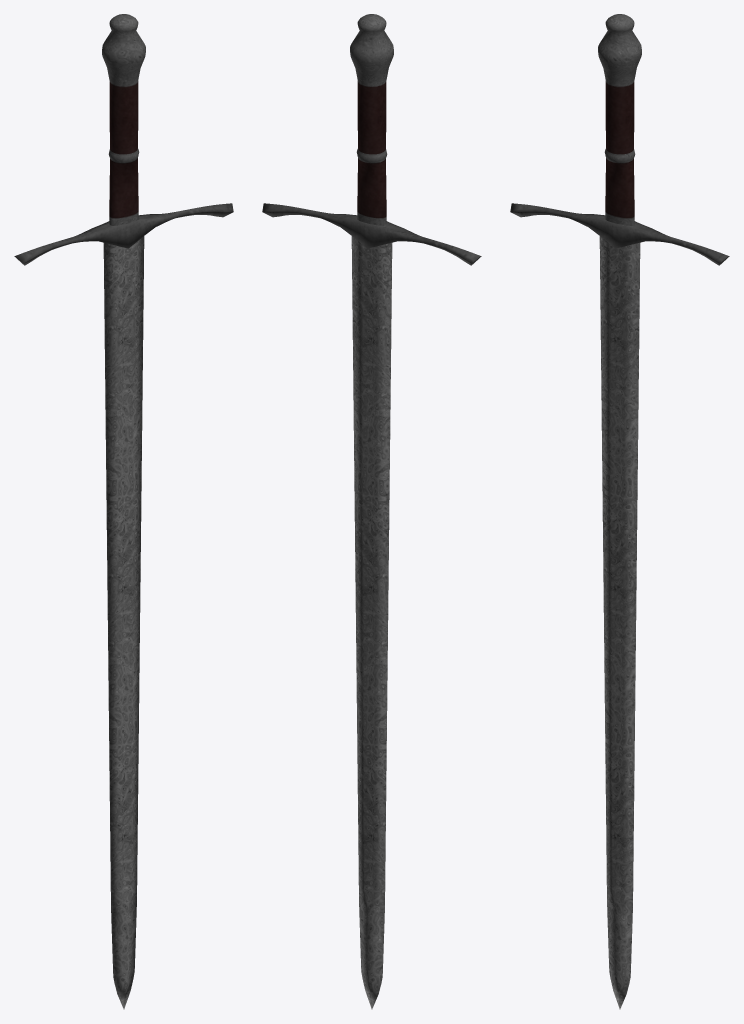
Rendered from damascus_sword.glb.
The picture shows the model from 3 angles, left to right: view 1: azimuth 30°, elevation 25°; view 2: azimuth 150°, elevation 25°; view 3: azimuth 330°, elevation 25°; orthographic projection.
Visible parts, largest first — view 1: damascus_sword; view 2: damascus_sword; view 3: damascus_sword.
Part boxes in pixels (x1,y1,x2,y2): damascus_sword: [14, 14, 233, 1009]; damascus_sword: [262, 14, 481, 1009]; damascus_sword: [510, 14, 729, 1009].
Bounding box in the file's own units: 0.2917 × 1.28 × 0.0519.
Materials: 1 (1 with a texture image).
